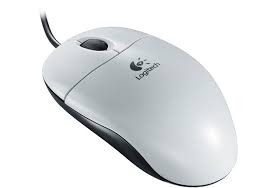mouse: (36, 20, 242, 187)
